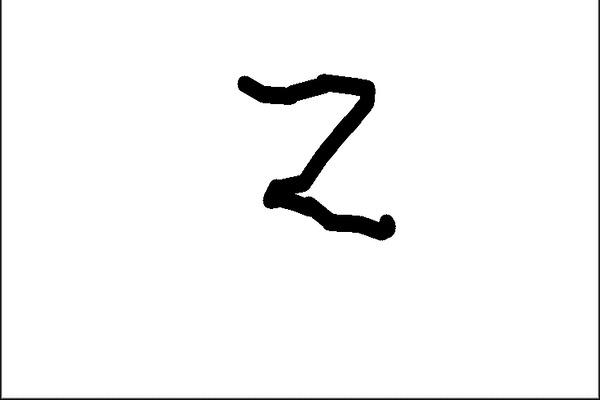Z: (218, 62, 412, 244)
